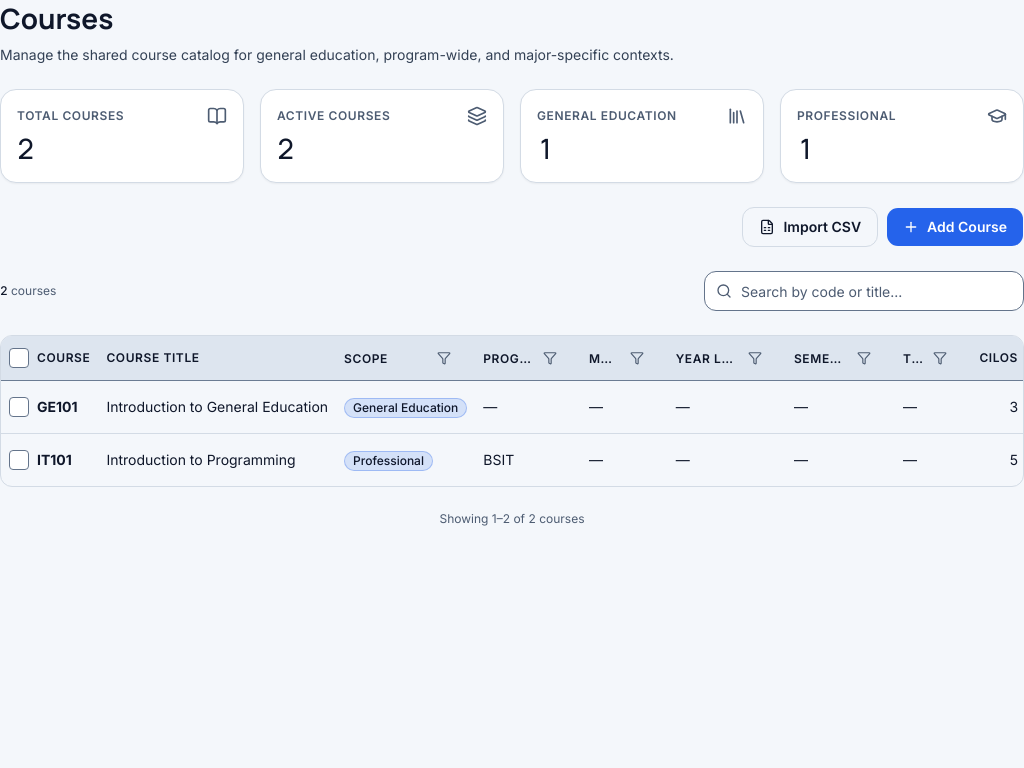
ManagementCoursesList › opens the Add New Course dialog from the Add Course button
The image size is (1024, 768).
Step 1. Click the button "Add Course" → coordinates (955, 227), box [886,207,1023,247]
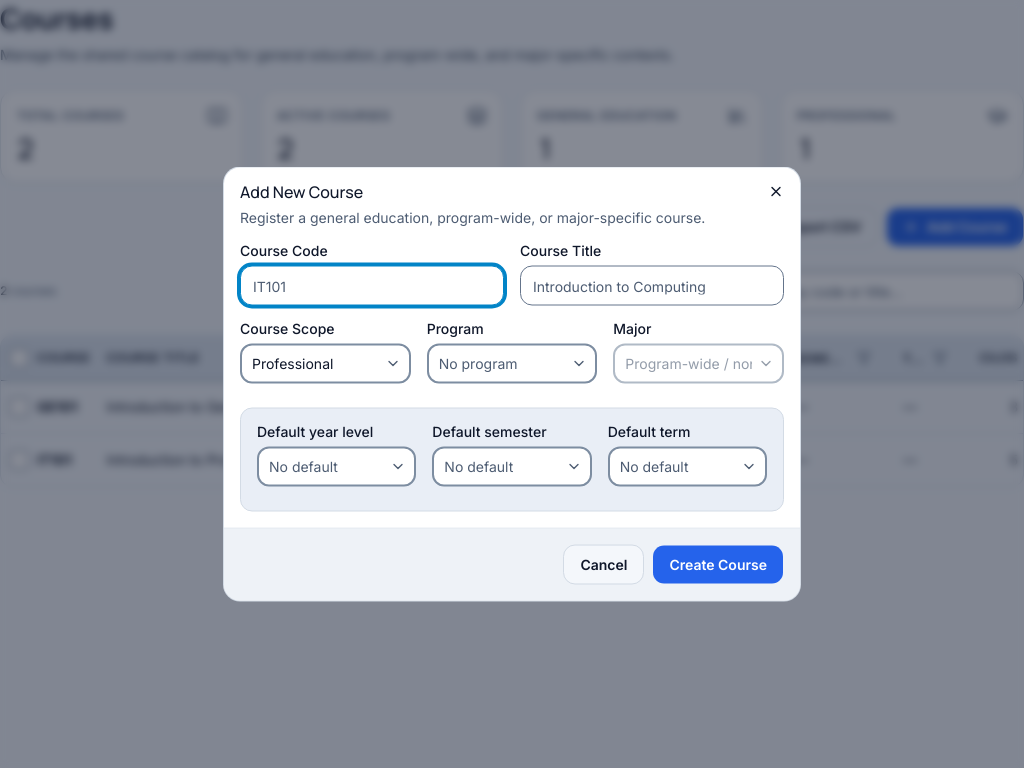
expect the heading "Add New Course" is shown: met, box [240,180,363,202]
expect the field labelled "Course Code" is shown: met, box [240,266,504,306]
